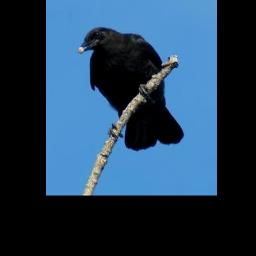Crow: (77, 26, 185, 152)
